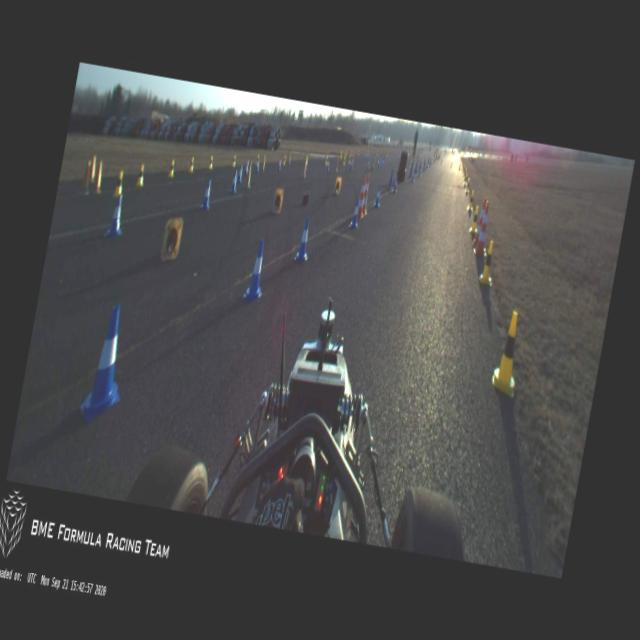blue_cone: (81, 304, 135, 416), (242, 237, 271, 301), (294, 215, 314, 262), (105, 194, 126, 237), (348, 198, 362, 229), (200, 180, 213, 210), (372, 183, 382, 208), (230, 170, 238, 192), (236, 164, 244, 183), (392, 176, 398, 193), (254, 159, 260, 173), (276, 158, 282, 172), (244, 160, 249, 175), (410, 170, 415, 182), (326, 159, 330, 170), (349, 159, 353, 170), (418, 166, 422, 177), (366, 160, 370, 170)
large_orange_cone: (474, 201, 494, 257), (472, 197, 486, 246), (356, 174, 370, 219), (360, 173, 373, 214)
unknown_cone: (160, 216, 183, 262), (80, 159, 94, 194), (93, 160, 105, 193), (271, 188, 284, 214), (245, 160, 254, 188), (89, 156, 98, 182), (332, 175, 342, 195), (300, 155, 308, 178), (260, 154, 267, 173), (334, 156, 339, 172), (287, 150, 292, 164)
yellow_cone: (490, 309, 528, 397), (478, 240, 498, 286), (469, 206, 480, 232), (114, 170, 124, 196), (136, 164, 146, 186), (466, 190, 474, 210), (168, 160, 175, 177), (464, 177, 470, 193), (188, 157, 194, 172), (208, 156, 213, 168), (232, 154, 236, 166), (282, 154, 286, 166), (255, 154, 259, 164), (342, 157, 346, 165), (348, 154, 350, 162)
